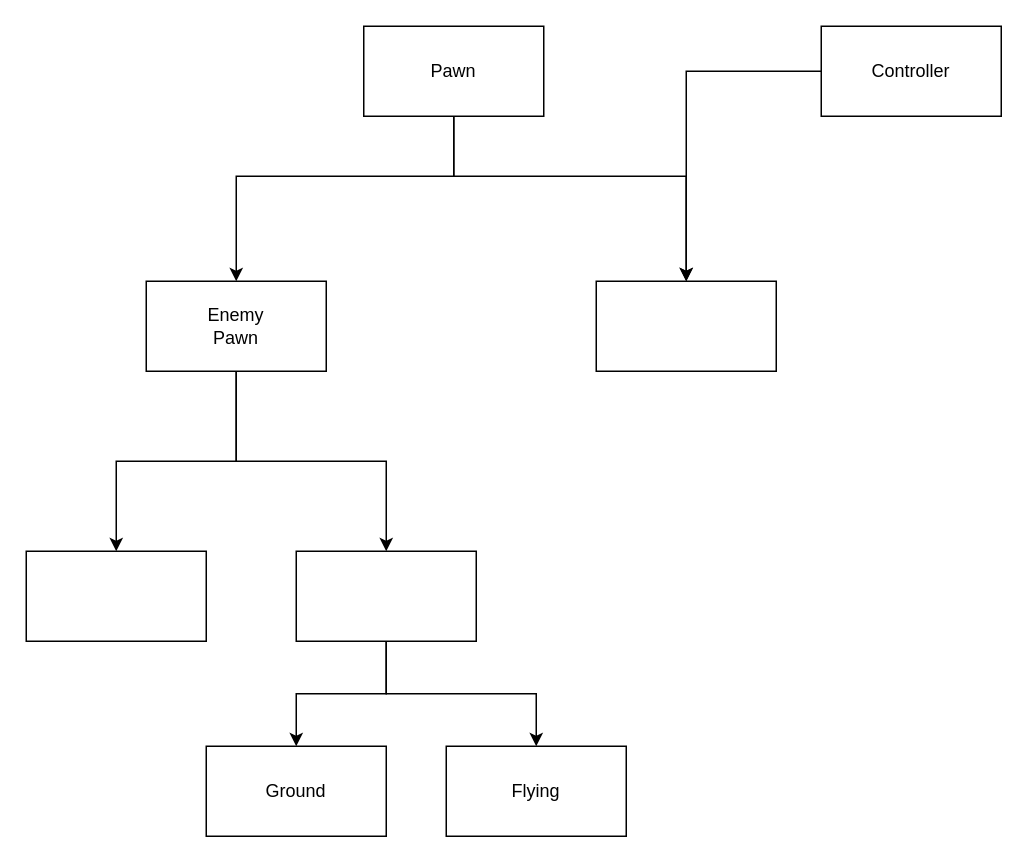
This 1028x863 diagram has some shape labels left out. The centre of each missing label's shape, as x and y in pixels:
"Boss Enemy" goes at [115,595].
"Mob Enemies" goes at [385,595].
"Player Pawn" goes at [685,325].
